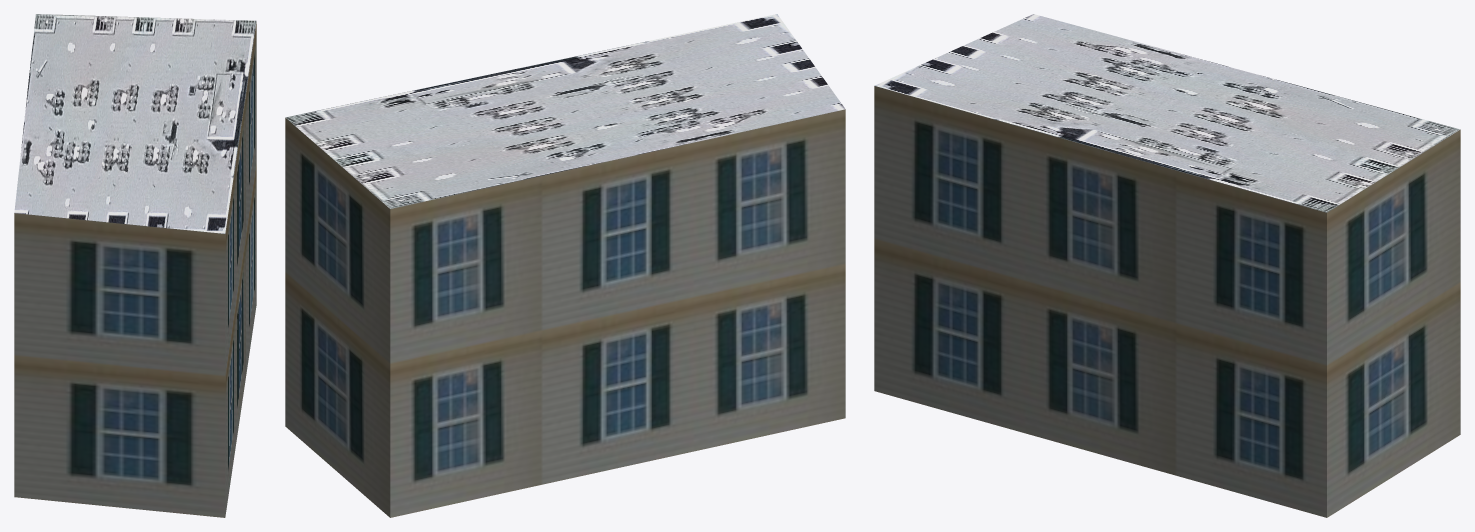
Rendered from ResTex__1939.fbx.
The picture shows the model from 3 angles, left to right: view 1: azimuth 30°, elevation 25°; view 2: azimuth 150°, elevation 25°; view 3: azimuth 270°, elevation 25°; orthographic projection. The views are drawn at different scales.
Parts seen in each view (by area): view 1: CityEngineMaterial_7_m, CityEngineMaterial_4_m; view 2: CityEngineMaterial_7_m, CityEngineMaterial_4_m; view 3: CityEngineMaterial_7_m, CityEngineMaterial_4_m.
Boxes of the visible parts, left/top/right/bottom form: CityEngineMaterial_7_m: left=14, top=22, right=256, bottom=517; CityEngineMaterial_4_m: left=14, top=14, right=256, bottom=233; CityEngineMaterial_7_m: left=285, top=109, right=845, bottom=517; CityEngineMaterial_4_m: left=285, top=14, right=845, bottom=208; CityEngineMaterial_7_m: left=874, top=86, right=1460, bottom=517; CityEngineMaterial_4_m: left=875, top=14, right=1460, bottom=212.
Bounding box in the file's own units: 8.37 × 6 × 10.44.
Materials: 2 (2 with a texture image).
